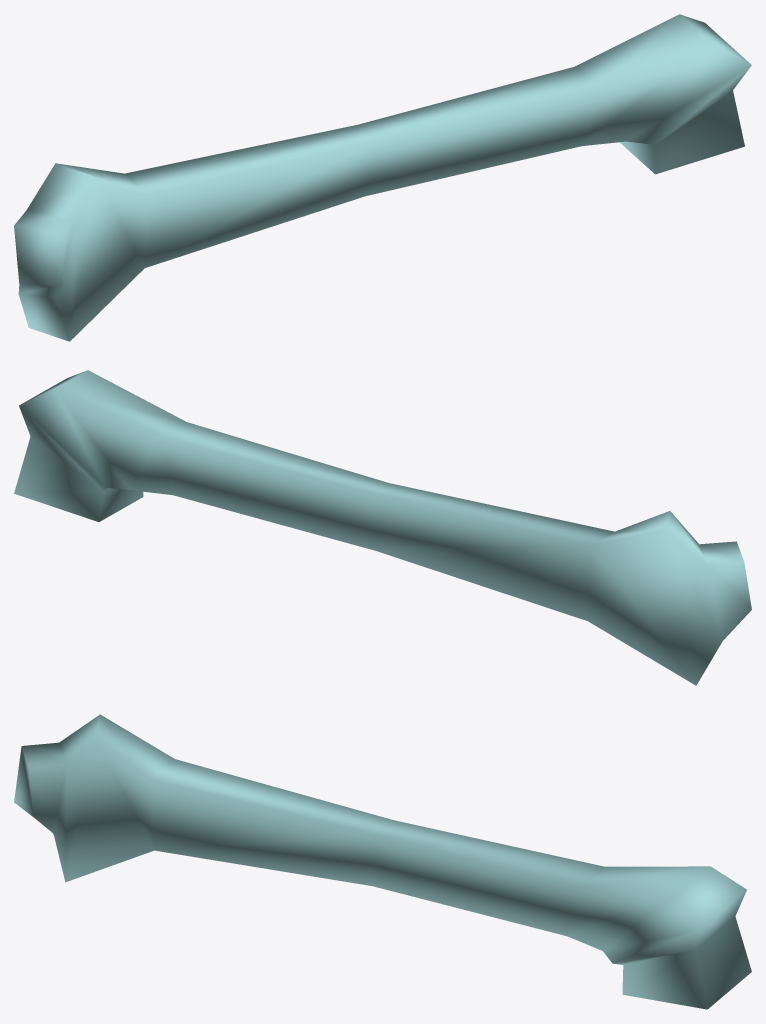
File: Skelly_upper_arm.R.fbx
The picture shows the model from 3 angles, top to bottom: view 1: azimuth 30°, elevation 25°; view 2: azimuth 150°, elevation 25°; view 3: azimuth 330°, elevation 25°; orthographic projection. The views are drawn at different scales.
Visible parts, largest first — view 1: Skelly_upper_arm.R; view 2: Skelly_upper_arm.R; view 3: Skelly_upper_arm.R.
Boxes of the visible parts, bbox=[...] form: Skelly_upper_arm.R: bbox=[14, 14, 751, 341]; Skelly_upper_arm.R: bbox=[14, 370, 751, 685]; Skelly_upper_arm.R: bbox=[14, 714, 751, 1009].
Size of the model in its own units: 38.49 by 8.04 by 5.02.
